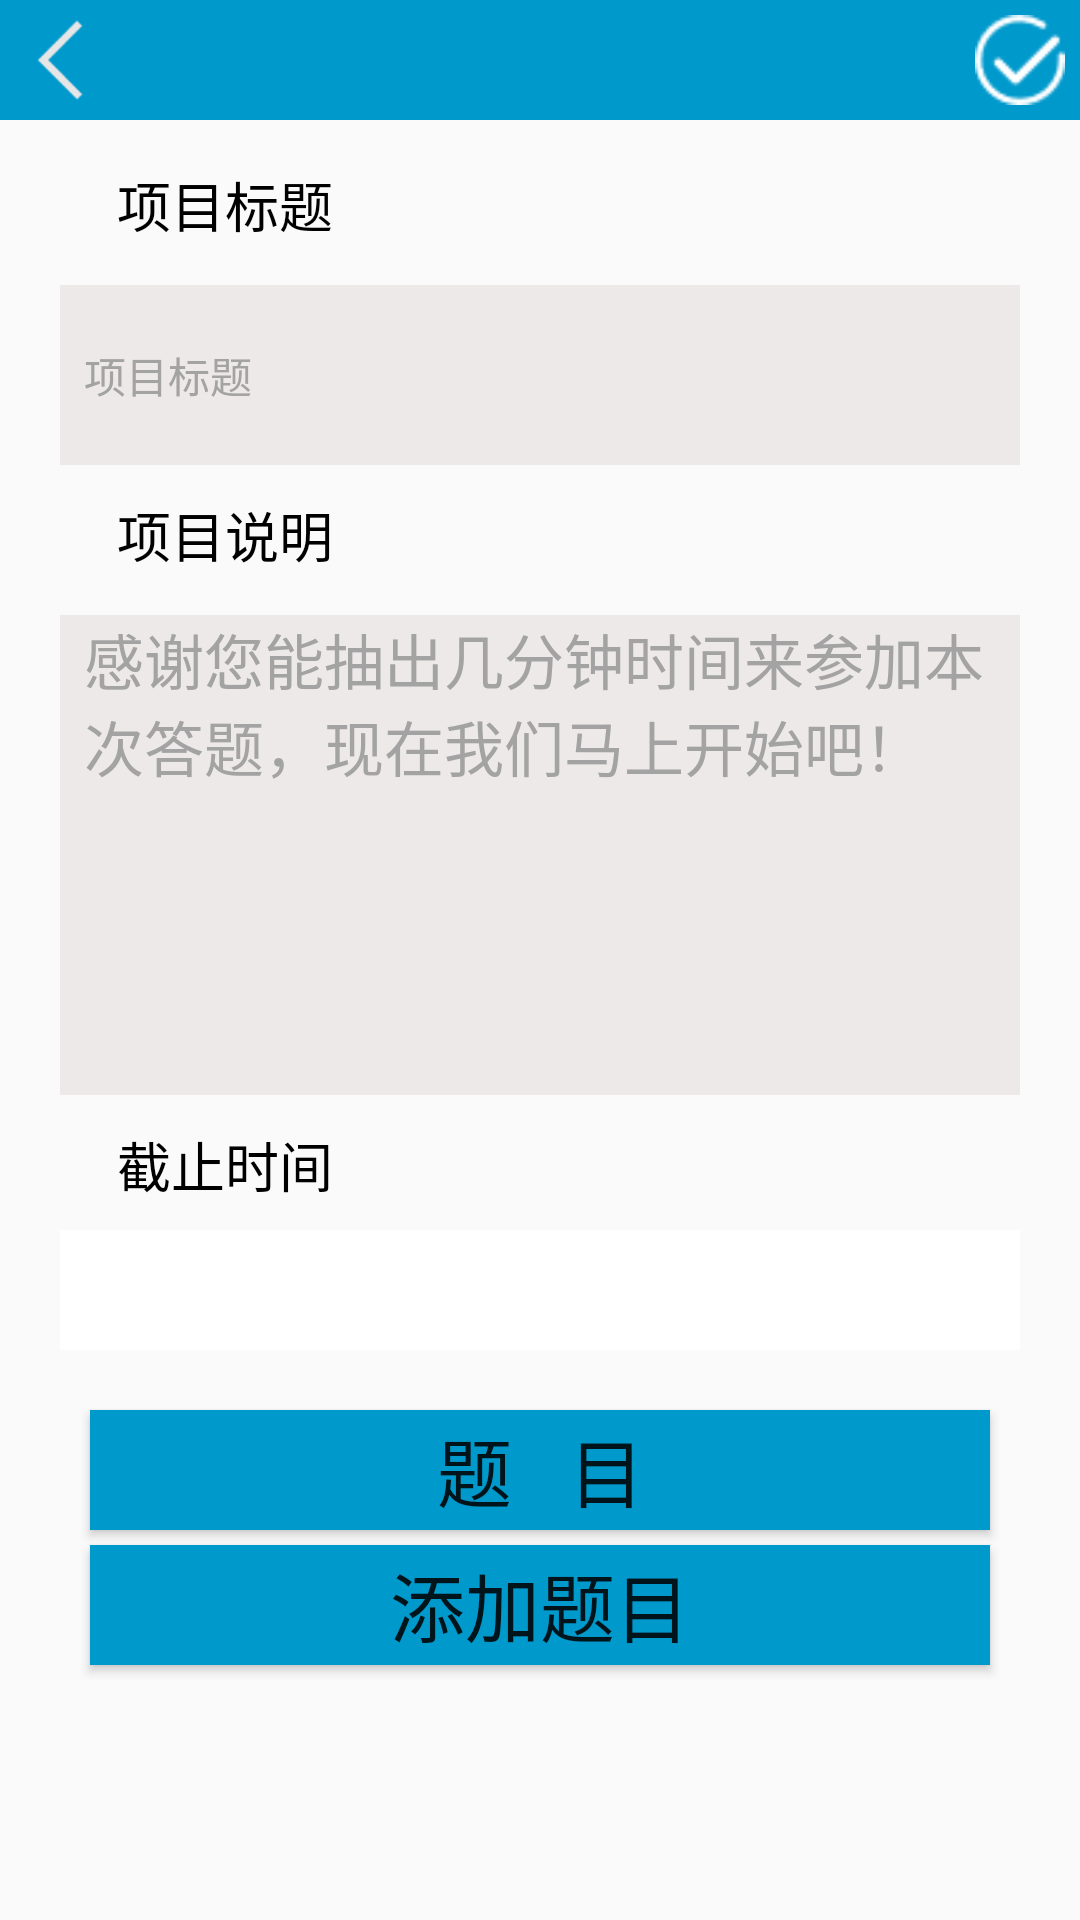

Screen size 1080x1920. Icon name, then its box in pixels as region(x1, y1, x2, y2):
back: region(37, 20, 83, 100)
project save: region(975, 15, 1065, 105)
